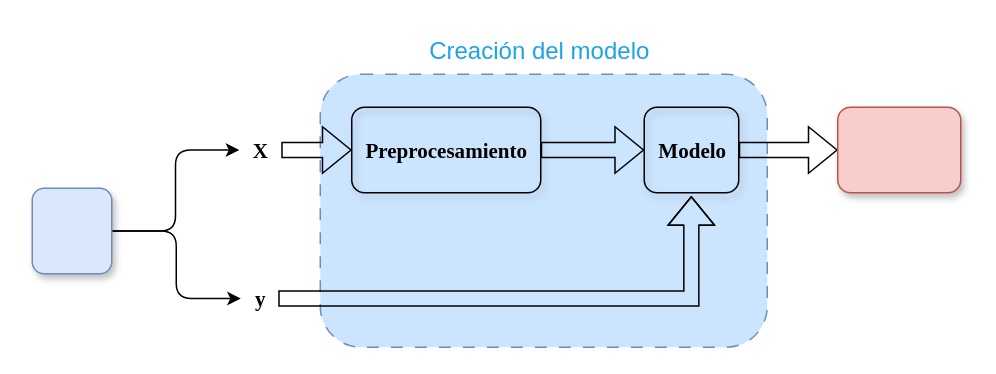
This 996x374 diagram has some shape labels left out. Each missing label, with the centre of its shape:
Datos: [73,232]
Predicción: [900,151]
